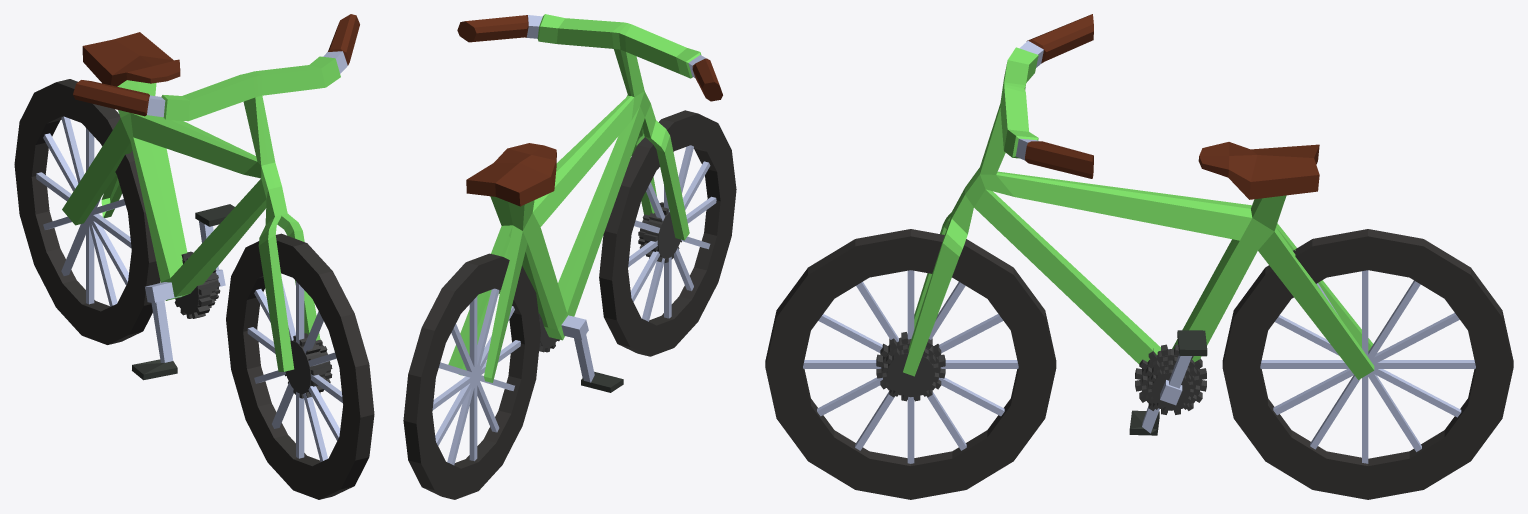
File: fahrrad.glb
3 views of the same model, side by side, from view 1: azimuth 30°, elevation 25°; view 2: azimuth 150°, elevation 25°; view 3: azimuth 270°, elevation 25° (orthographic). The views are drawn at different scales.
Parts seen in each view (by area): view 1: Cube.002, Circle, Circle.001, Cube.001, Cube, Cube.004, Cylinder, Cylinder.001, Cube.003; view 2: Cube.002, Circle.001, Circle, Cube.001, Cube, Cube.004, Cylinder; view 3: Cube.002, Circle, Circle.001, Cube.001, Cube, Cylinder.003, Cube.003, Cylinder.001, Cylinder, Cylinder.005, Cylinder.004.
Boxes of the visible parts, bbox=[...] form: Cube.002: bbox=[62, 14, 359, 371]; Circle: bbox=[226, 233, 374, 499]; Circle.001: bbox=[14, 79, 160, 344]; Cube.001: bbox=[36, 116, 131, 306]; Cube: bbox=[247, 280, 342, 461]; Cube.004: bbox=[132, 282, 181, 380]; Cylinder: bbox=[285, 333, 326, 398]; Cylinder.001: bbox=[174, 251, 211, 318]; Cube.003: bbox=[195, 204, 234, 286]; Cube.002: bbox=[448, 14, 722, 382]; Circle.001: bbox=[403, 253, 540, 499]; Circle: bbox=[599, 110, 736, 356]; Cube.001: bbox=[432, 288, 520, 465]; Cube: bbox=[628, 145, 716, 321]; Cube.004: bbox=[561, 315, 623, 392]; Cylinder: bbox=[643, 202, 681, 262]; Cube.002: bbox=[903, 14, 1374, 379]; Circle: bbox=[765, 229, 1056, 499]; Circle.001: bbox=[1222, 229, 1513, 499]; Cube.001: bbox=[1260, 270, 1475, 463]; Cube: bbox=[803, 270, 1018, 463]; Cylinder.003: bbox=[882, 345, 938, 399]; Cube.003: bbox=[1160, 330, 1207, 405]; Cylinder.001: bbox=[1135, 344, 1206, 414]; Cylinder: bbox=[876, 332, 945, 401]; Cylinder.005: bbox=[1148, 366, 1193, 410]; Cylinder.004: bbox=[1142, 356, 1199, 412].
Size of the model in its own units: 2.47 by 3.12 by 5.14.
